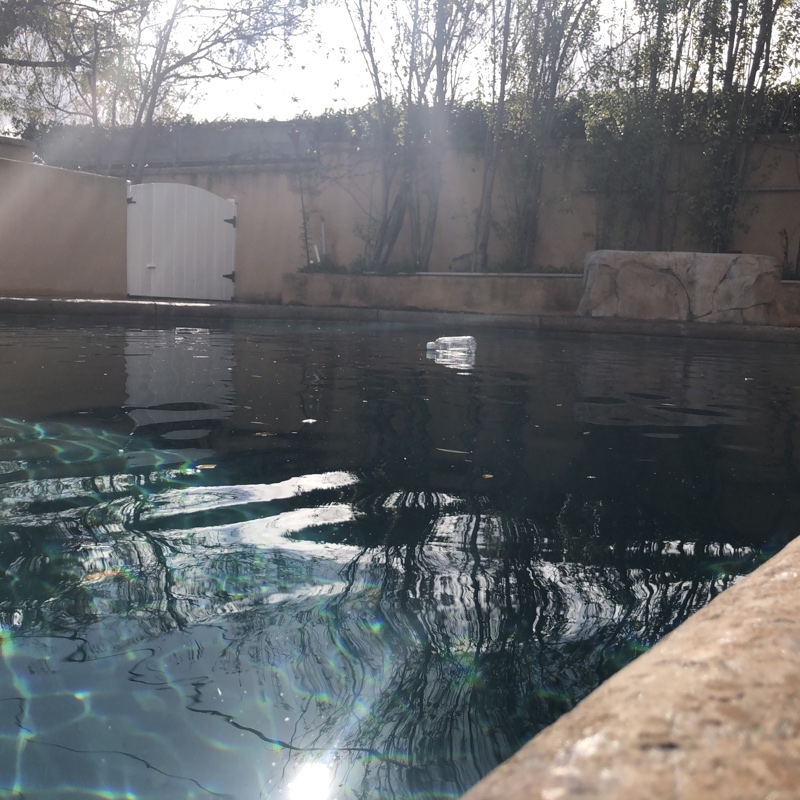Plastic Bottle: (424, 335, 479, 356)
